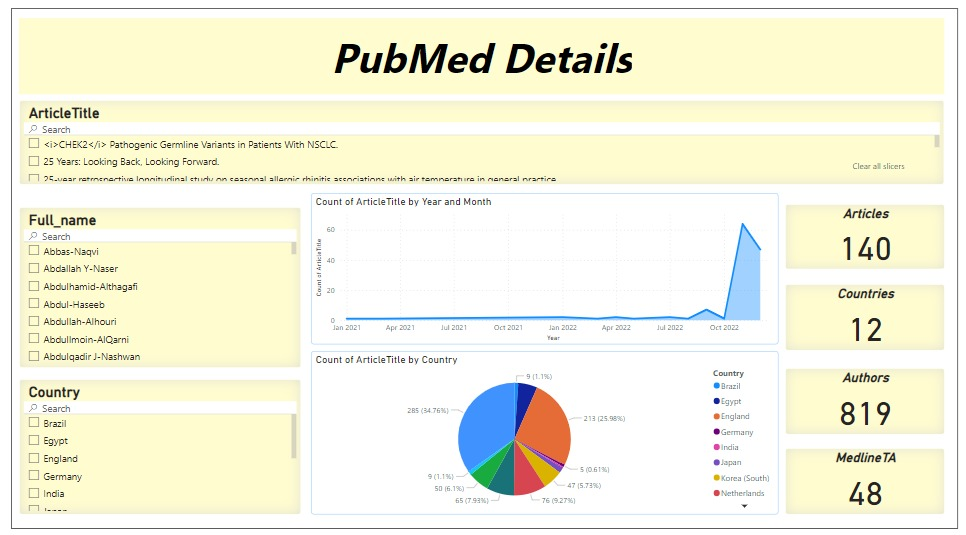

The dashboard page shown, as its layout file describes it:
{"tool":"powerbi","page":{"name":"Page 1","canvas":[1600,900],"ordinal":0},"visuals":[{"type":"shape","box":[18,20,1564,860],"z":0},{"type":"card","title":"Articles","fields":{"Values":["Pubmedsampledata_output.ArticleTitle"]},"box":[1296,344,264,108],"z":1000},{"type":"card","title":"Countries","fields":{"Values":["Pubmedsampledata_output.Country"]},"box":[1296,476,264,110],"z":2000},{"type":"card","title":"Authors","fields":{"Values":["Pubmedsampledata_output.Full_name"]},"box":[1296,614,264,110],"z":3000},{"type":"stackedAreaChart","fields":{"Category":["Pubmedsampledata_output.Date.Variation.Date Hierarchy.Year","Pubmedsampledata_output.Date.Variation.Date Hierarchy.Month"],"Y":["Pubmedsampledata_output.ArticleTitle"]},"box":[514,326,772,250],"z":4000},{"type":"pieChart","fields":{"Y":["Pubmedsampledata_output.ArticleTitle"],"Series":["Pubmedsampledata_output.Country"]},"box":[514,586,772,270],"z":5000},{"type":"card","title":"MedlineTA","fields":{"Values":["Pubmedsampledata_output.MedlineTA"]},"box":[1296,746,264,110],"z":6000},{"type":"shape","box":[32,36,1528,126],"z":7000},{"type":"slicer","fields":{"Values":["Pubmedsampledata_output.Full_name"]},"box":[32,348,466,266],"z":8000},{"type":"slicer","fields":{"Values":["Pubmedsampledata_output.Country"]},"box":[32,632,466,224],"z":9000},{"type":"slicer","fields":{"Values":["Pubmedsampledata_output.ArticleTitle"]},"box":[32,172,1528,140],"z":10000},{"type":"actionButton","box":[1350,254,200,50],"z":10001}]}

Visuals, with their boxes in screenshot pixels (x1, y1, x2, y2), scaled from the page's 1600x900 canvas onto the 966x535 screenshot:
shape: {"x1": 11, "y1": 12, "x2": 955, "y2": 523}
"Articles" card: {"x1": 782, "y1": 204, "x2": 942, "y2": 269}
"Countries" card: {"x1": 782, "y1": 283, "x2": 942, "y2": 348}
"Authors" card: {"x1": 782, "y1": 365, "x2": 942, "y2": 430}
stackedAreaChart - Pubmedsampledata_output.Date.Variation.Date Hierarchy.Year x Pubmedsampledata_output.Date.Variation.Date Hierarchy.Month: {"x1": 310, "y1": 194, "x2": 776, "y2": 342}
pieChart - Pubmedsampledata_output.ArticleTitle x Pubmedsampledata_output.Country: {"x1": 310, "y1": 348, "x2": 776, "y2": 509}
"MedlineTA" card: {"x1": 782, "y1": 443, "x2": 942, "y2": 509}
shape: {"x1": 19, "y1": 21, "x2": 942, "y2": 96}
slicer - Pubmedsampledata_output.Full_name: {"x1": 19, "y1": 207, "x2": 301, "y2": 365}
slicer - Pubmedsampledata_output.Country: {"x1": 19, "y1": 376, "x2": 301, "y2": 509}
slicer - Pubmedsampledata_output.ArticleTitle: {"x1": 19, "y1": 102, "x2": 942, "y2": 185}
actionButton: {"x1": 815, "y1": 151, "x2": 936, "y2": 181}
